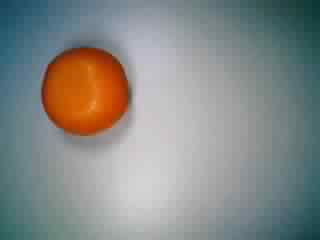orange: (33, 39, 131, 137)
